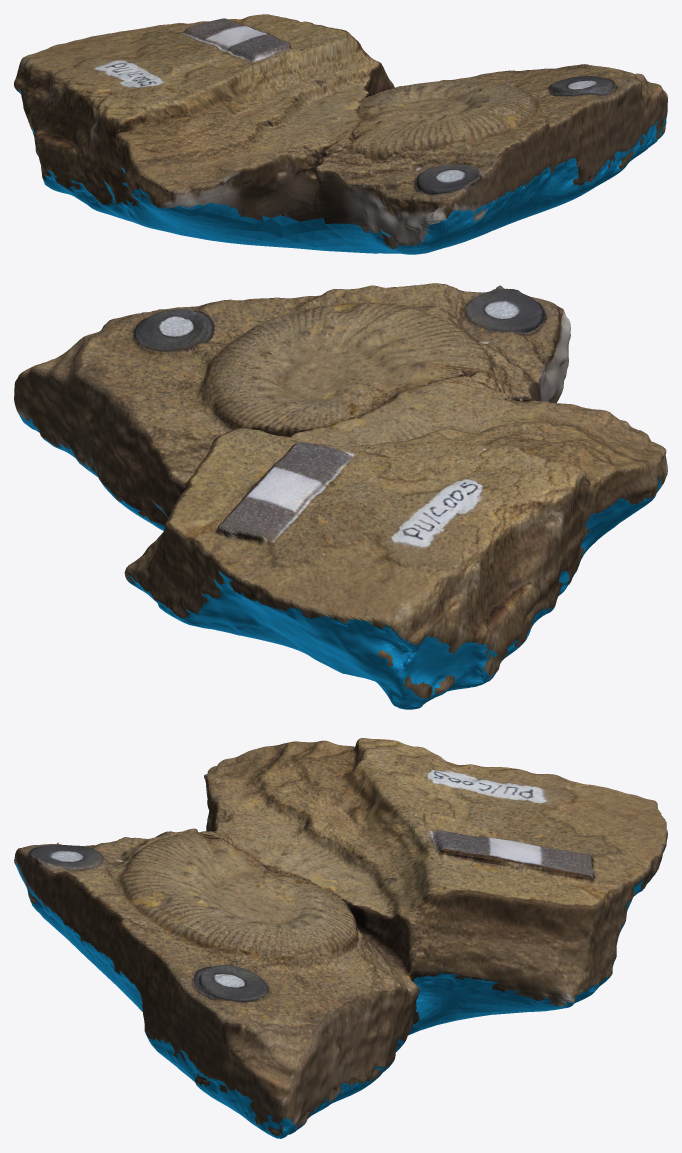
Rendered from PuC-005.glb.
3 renders of one model, top to bottom at view 1: azimuth 30°, elevation 25°; view 2: azimuth 150°, elevation 25°; view 3: azimuth 270°, elevation 25°, orthographic. The views are drawn at different scales.
Parts seen in each view (by area): view 1: PuC005V; view 2: PuC005V; view 3: PuC005V.
Part boxes in pixels (x1,y1,x2,y2): PuC005V: (14, 14, 667, 254); PuC005V: (14, 283, 667, 709); PuC005V: (14, 738, 667, 1138).
Bounding box in the file's own units: 65.05 × 18.38 × 60.63.
1 material, 1 textured.
